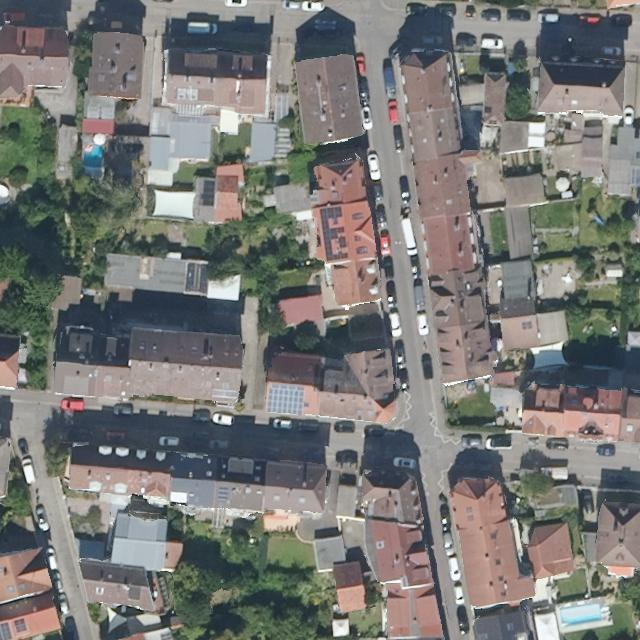PV: (318, 202, 352, 266), (262, 380, 306, 417)
